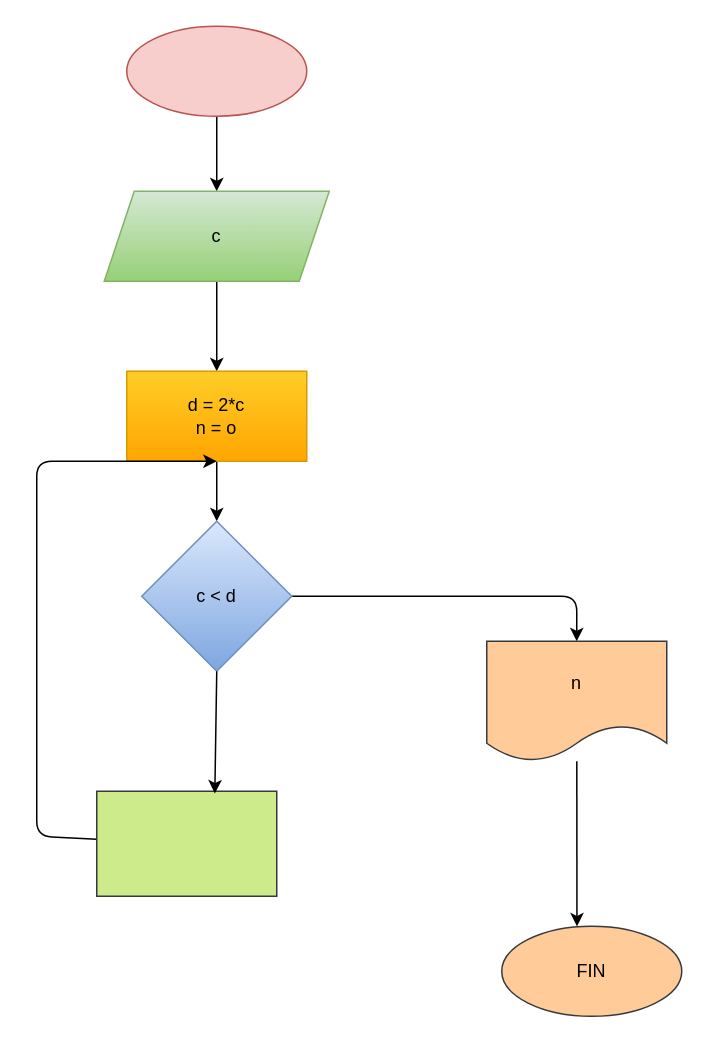
Some shapes in this 708 by 1043 pixel diagram are drawn without their labels. The shapes that lost their labels are listed below. From the top down, each one's box as (x1, y1, x2, y2) in pixels, then its label:
(125, 25, 307, 116): inicio
(95, 790, 277, 896): C = C + 0.05 + C n = n + 1
